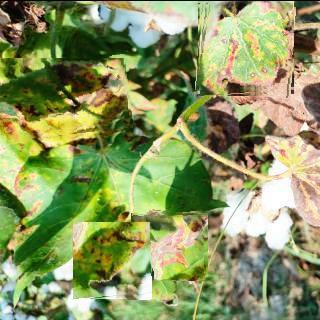blight: (0, 57, 130, 141), (197, 0, 294, 96), (73, 221, 152, 299), (133, 208, 205, 280)
